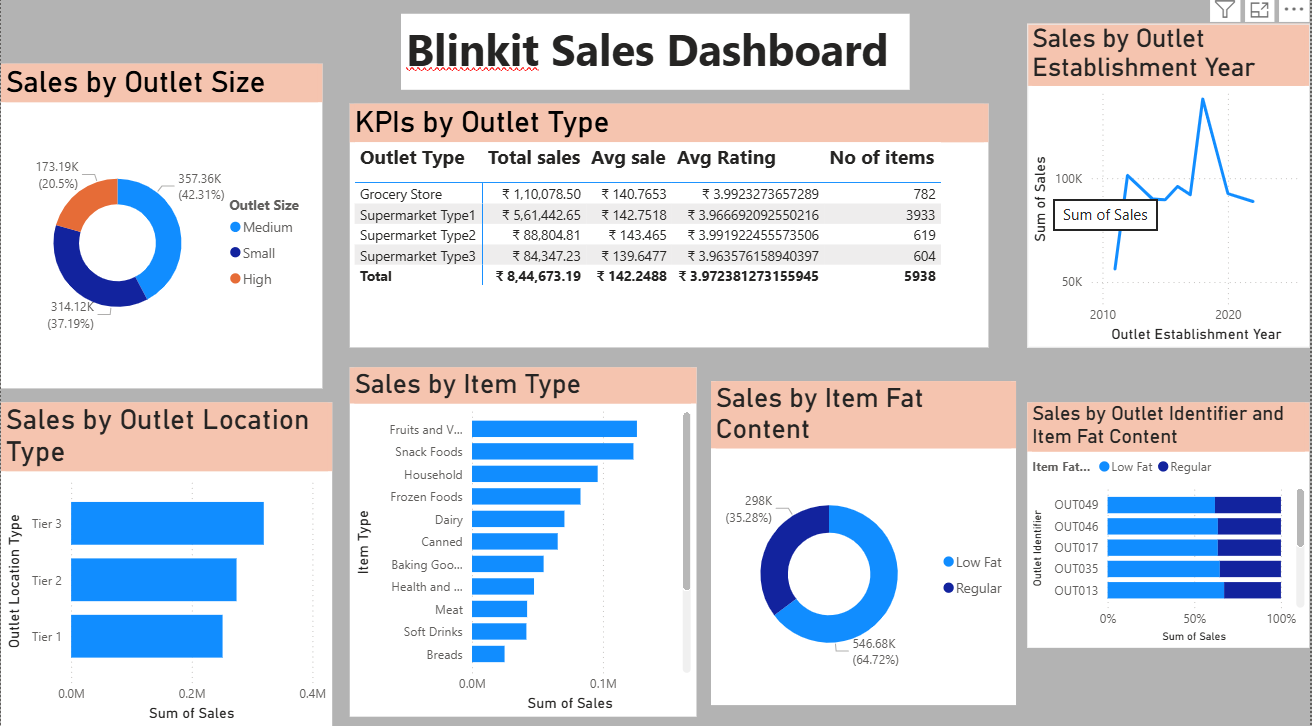

This screenshot's page, from the dashboard's own definition file:
{"tool":"powerbi","page":{"name":"Page 1","canvas":[1280,720],"ordinal":0},"visuals":[{"type":"donutChart","title":" Sales by Outlet Size","fields":{"Category":["blinkit grocery.Outlet Size"],"Y":["Sum(blinkit grocery.Sales)"]},"box":[0,72.1,314.3,317.9],"z":0},{"type":"barChart","title":"Sales by Outlet Location Type","fields":{"Category":["blinkit grocery.Outlet Location Type"],"Y":["Sum(blinkit grocery.Sales)"]},"box":[0,403.4,323.8,317],"z":1000},{"type":"barChart","title":"Sales by Item Type","fields":{"Category":["blinkit grocery.Item Type"],"Y":["Sum(blinkit grocery.Sales)"]},"box":[341.7,369.1,338.9,341.7],"z":2000},{"type":"pivotTable","title":"KPIs by Outlet Type","fields":{"Rows":["blinkit grocery.Outlet Type"],"Values":["Blinkit_dataset.Total sales","Blinkit_dataset.Avg sale","Blinkit_dataset.Avg Rating","Blinkit_dataset.No of items"]},"box":[360.9,111.1,624.4,238.8],"z":3000},{"type":"donutChart","title":"Sales by Item Fat Content","fields":{"Category":["blinkit grocery.Item Fat Content"],"Y":["Sum(blinkit grocery.Sales)"]},"box":[687.5,403.4,297.8,317],"z":4000},{"type":"lineChart","title":"Sales by Outlet Establishment Year","fields":{"Category":["blinkit grocery.Outlet Establishment Year"],"Y":["Sum(blinkit grocery.Sales)"]},"box":[1004.5,32.9,275.8,317],"z":5000},{"type":"hundredPercentStackedBarChart","title":"Sales by Outlet Identifier and Item Fat Content","fields":{"Series":["blinkit grocery.Item Fat Content"],"Y":["Sum(blinkit grocery.Sales)"],"Category":["blinkit grocery.Outlet Identifier"]},"box":[1003.9,420.7,276.4,239.7],"z":6000},{"type":"textbox","box":[432.2,13.7,496.7,74.1],"z":7000}]}

Visuals, with their boxes in screenshot pixels (x1, y1, x2, y2), scaled from the page's 1280x720 canvas onto the 1312x726 screenshot:
" Sales by Outlet Size" donutChart: <region>0, 73, 322, 393</region>
"Sales by Outlet Location Type" barChart: <region>0, 407, 332, 725</region>
"Sales by Item Type" barChart: <region>350, 372, 698, 717</region>
"KPIs by Outlet Type" pivotTable: <region>370, 112, 1010, 353</region>
"Sales by Item Fat Content" donutChart: <region>705, 407, 1010, 725</region>
"Sales by Outlet Establishment Year" lineChart: <region>1030, 33, 1311, 353</region>
"Sales by Outlet Identifier and Item Fat Content" hundredPercentStackedBarChart: <region>1029, 424, 1311, 666</region>
textbox: <region>443, 14, 952, 89</region>
